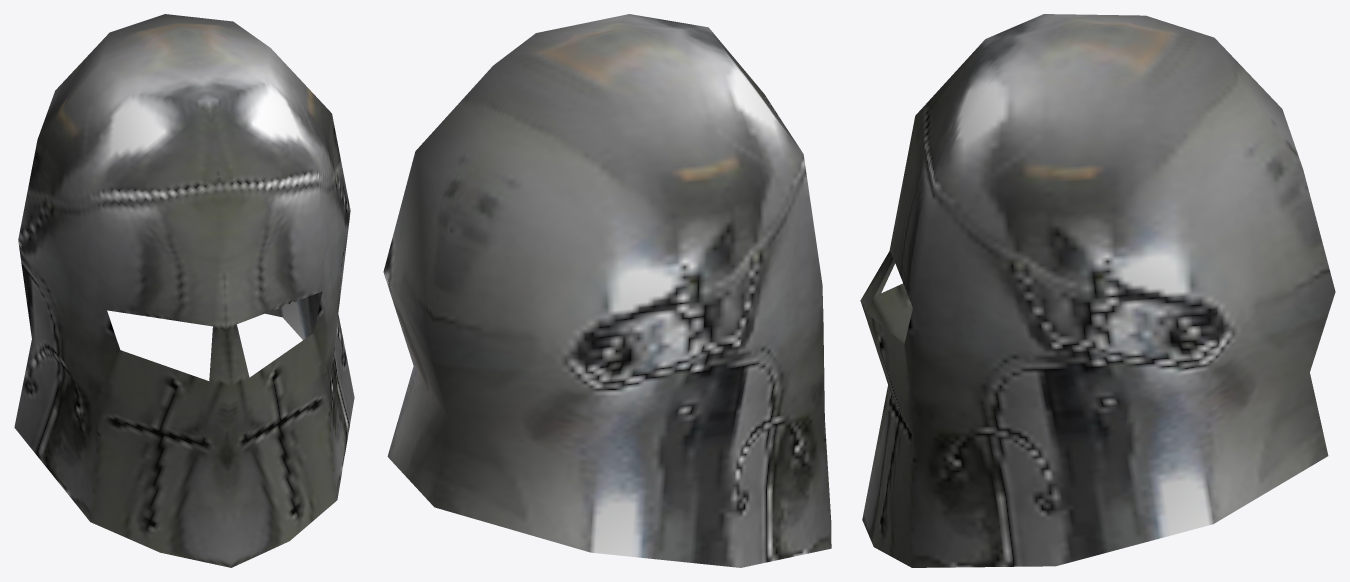
The model's file is Plate Armor Helm.fbx.
3 views of the same model, side by side, from view 1: azimuth 30°, elevation 25°; view 2: azimuth 150°, elevation 25°; view 3: azimuth 270°, elevation 25° (orthographic). The views are drawn at different scales.
Visible parts, largest first — view 1: Plate Helm; view 2: Plate Helm; view 3: Plate Helm.
Boxes of the visible parts, <box> form: Plate Helm: <box>14,14,354,567</box>; Plate Helm: <box>383,14,831,567</box>; Plate Helm: <box>860,14,1335,567</box>.
Size of the model in its own units: 0.2059 by 0.3057 by 0.25.
